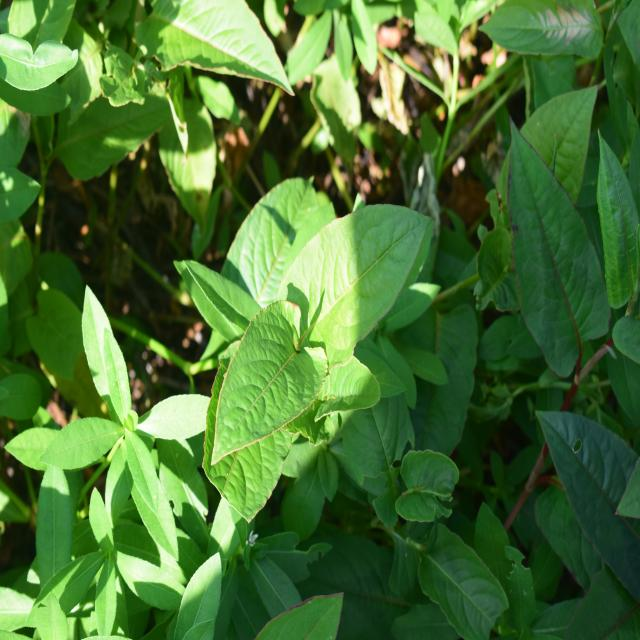Chinese_knotweed: (210, 195, 436, 465)
